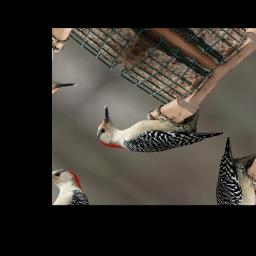Woodpecker: (80, 68, 229, 190)
